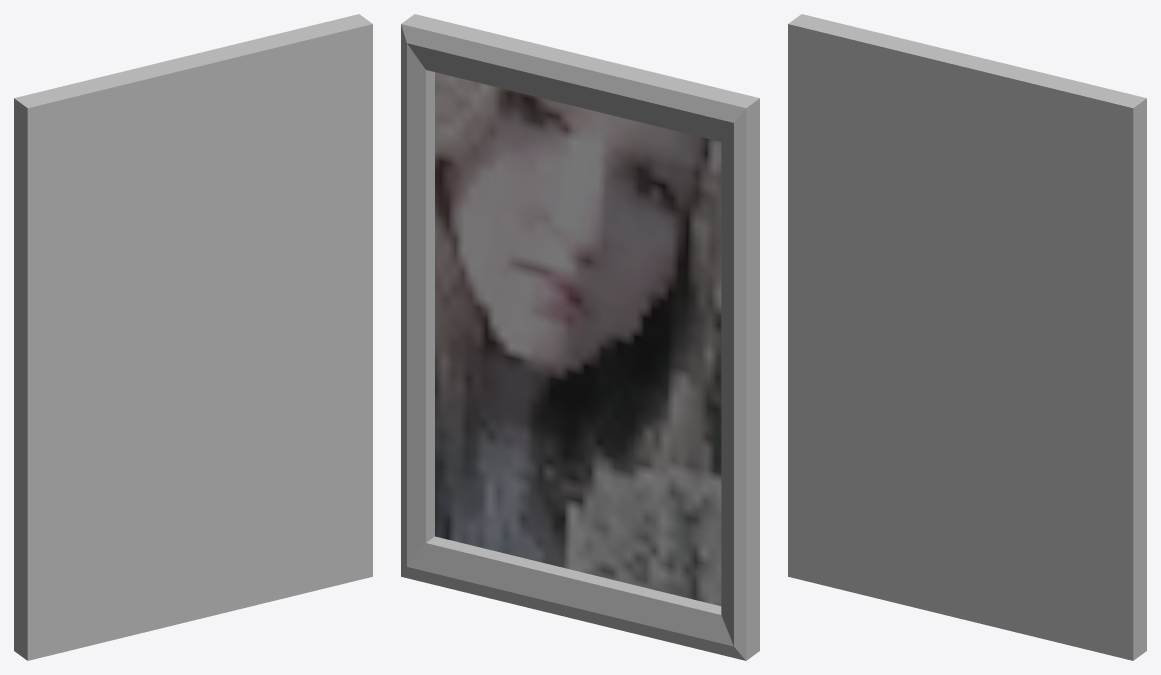
The model's file is fossilPainting.fbx.
3 views of the same model, side by side, from view 1: azimuth 30°, elevation 25°; view 2: azimuth 150°, elevation 25°; view 3: azimuth 330°, elevation 25° (orthographic).
Parts seen in each view (by area): view 1: Cube.002; view 2: Cube.002; view 3: Cube.002.
Part boxes in pixels (left/top/right/bottom): Cube.002: left=14, top=14, right=372, bottom=660; Cube.002: left=401, top=14, right=759, bottom=660; Cube.002: left=788, top=14, right=1146, bottom=660.
Size of the model in its own units: 200 by 306 by 17.
